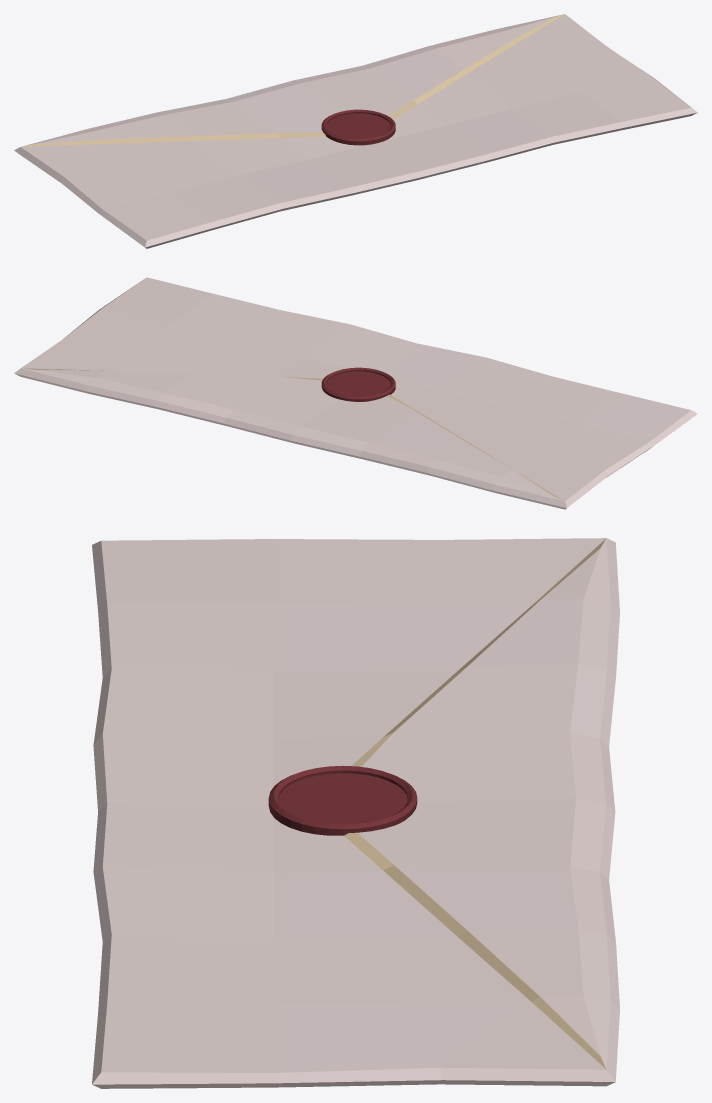
Rendered from Letter.fbx.
3 views of the same model, one above another, from view 1: azimuth 30°, elevation 25°; view 2: azimuth 150°, elevation 25°; view 3: azimuth 270°, elevation 25° (orthographic). The views are drawn at different scales.
Parts seen in each view (by area): view 1: Cube; view 2: Cube; view 3: Cube.
Part boxes in pixels (left/top/right/bottom): Cube: left=14, top=14, right=697, bottom=248; Cube: left=14, top=277, right=697, bottom=509; Cube: left=92, top=538, right=619, bottom=1088.
Bounding box in the file's own units: 25 × 0.599 × 10.29.
